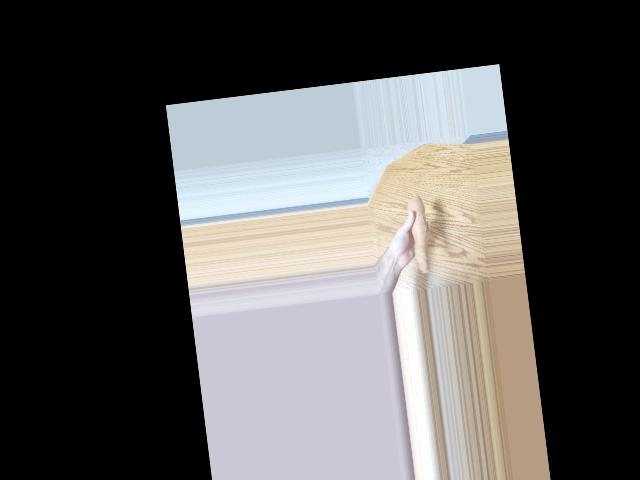sweet_potato: (403, 197, 435, 274)
